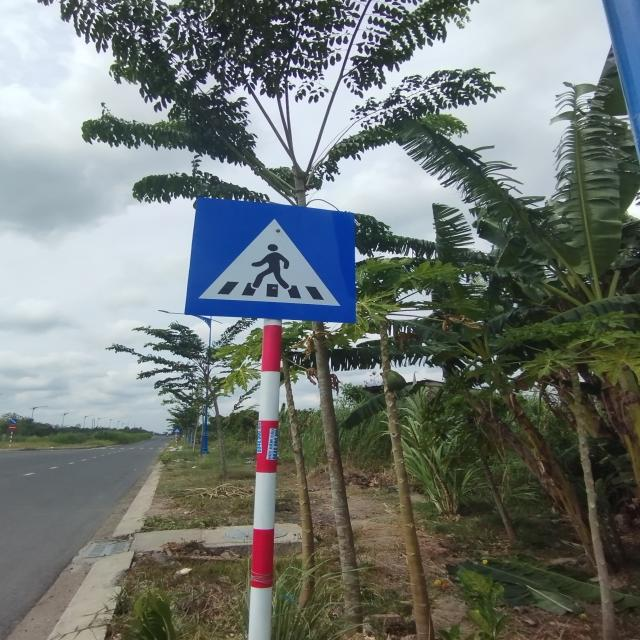Giao_Nhau_Duong_Uu_Tien: (184, 197, 356, 321)
